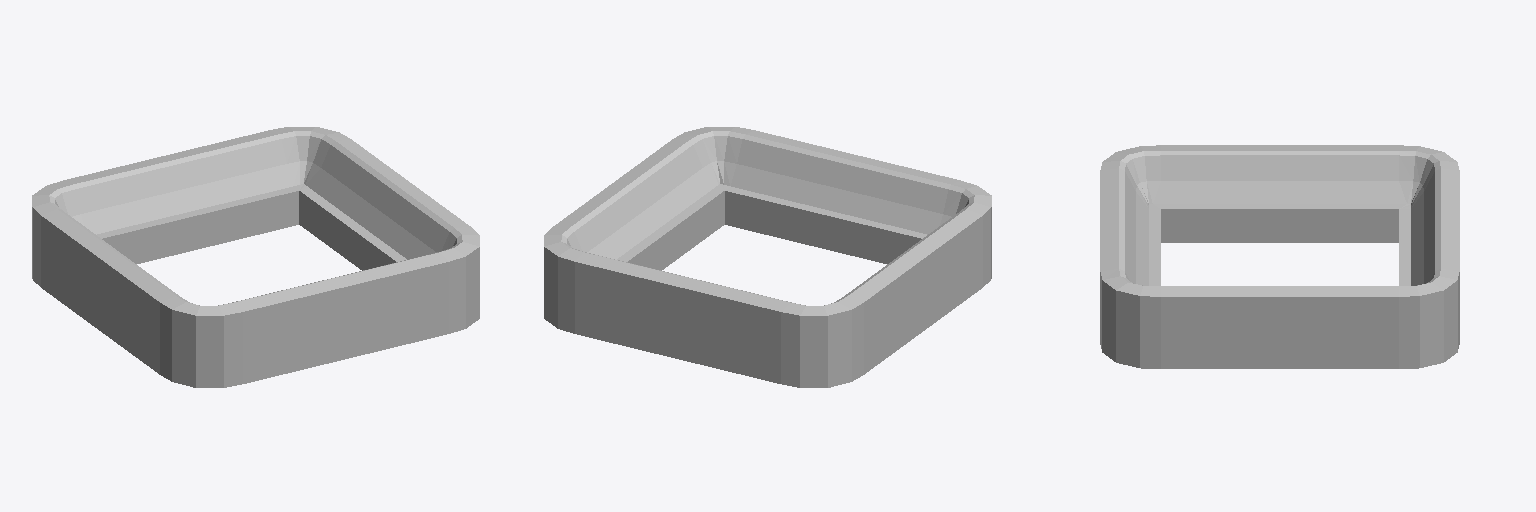
Rendered from InwardCurvedWall_Lower_4edges.obj.
3 views of the same model, side by side, from view 1: azimuth 30°, elevation 25°; view 2: azimuth 150°, elevation 25°; view 3: azimuth 270°, elevation 25° (orthographic).
Visible parts, largest first — view 1: InwardCurvedWall_Lower1_4_edges export_grp; view 2: InwardCurvedWall_Lower1_4_edges export_grp; view 3: InwardCurvedWall_Lower1_4_edges export_grp.
Part boxes in pixels (x1,y1,x2,y2): InwardCurvedWall_Lower1_4_edges export_grp: (32, 127, 479, 387); InwardCurvedWall_Lower1_4_edges export_grp: (544, 127, 991, 387); InwardCurvedWall_Lower1_4_edges export_grp: (1100, 145, 1459, 368).
Size of the model in its own units: 12.08 by 2.78 by 12.09.